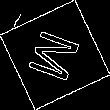M_E: (24, 25, 86, 85)
